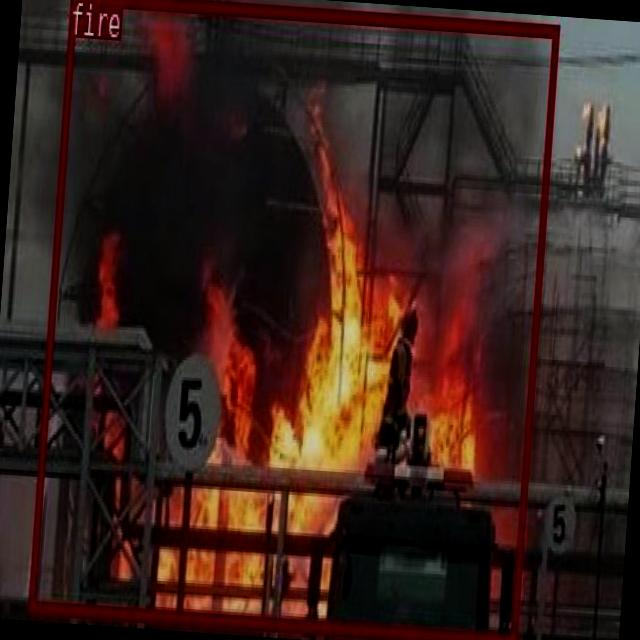fire: (27, 0, 558, 640)
